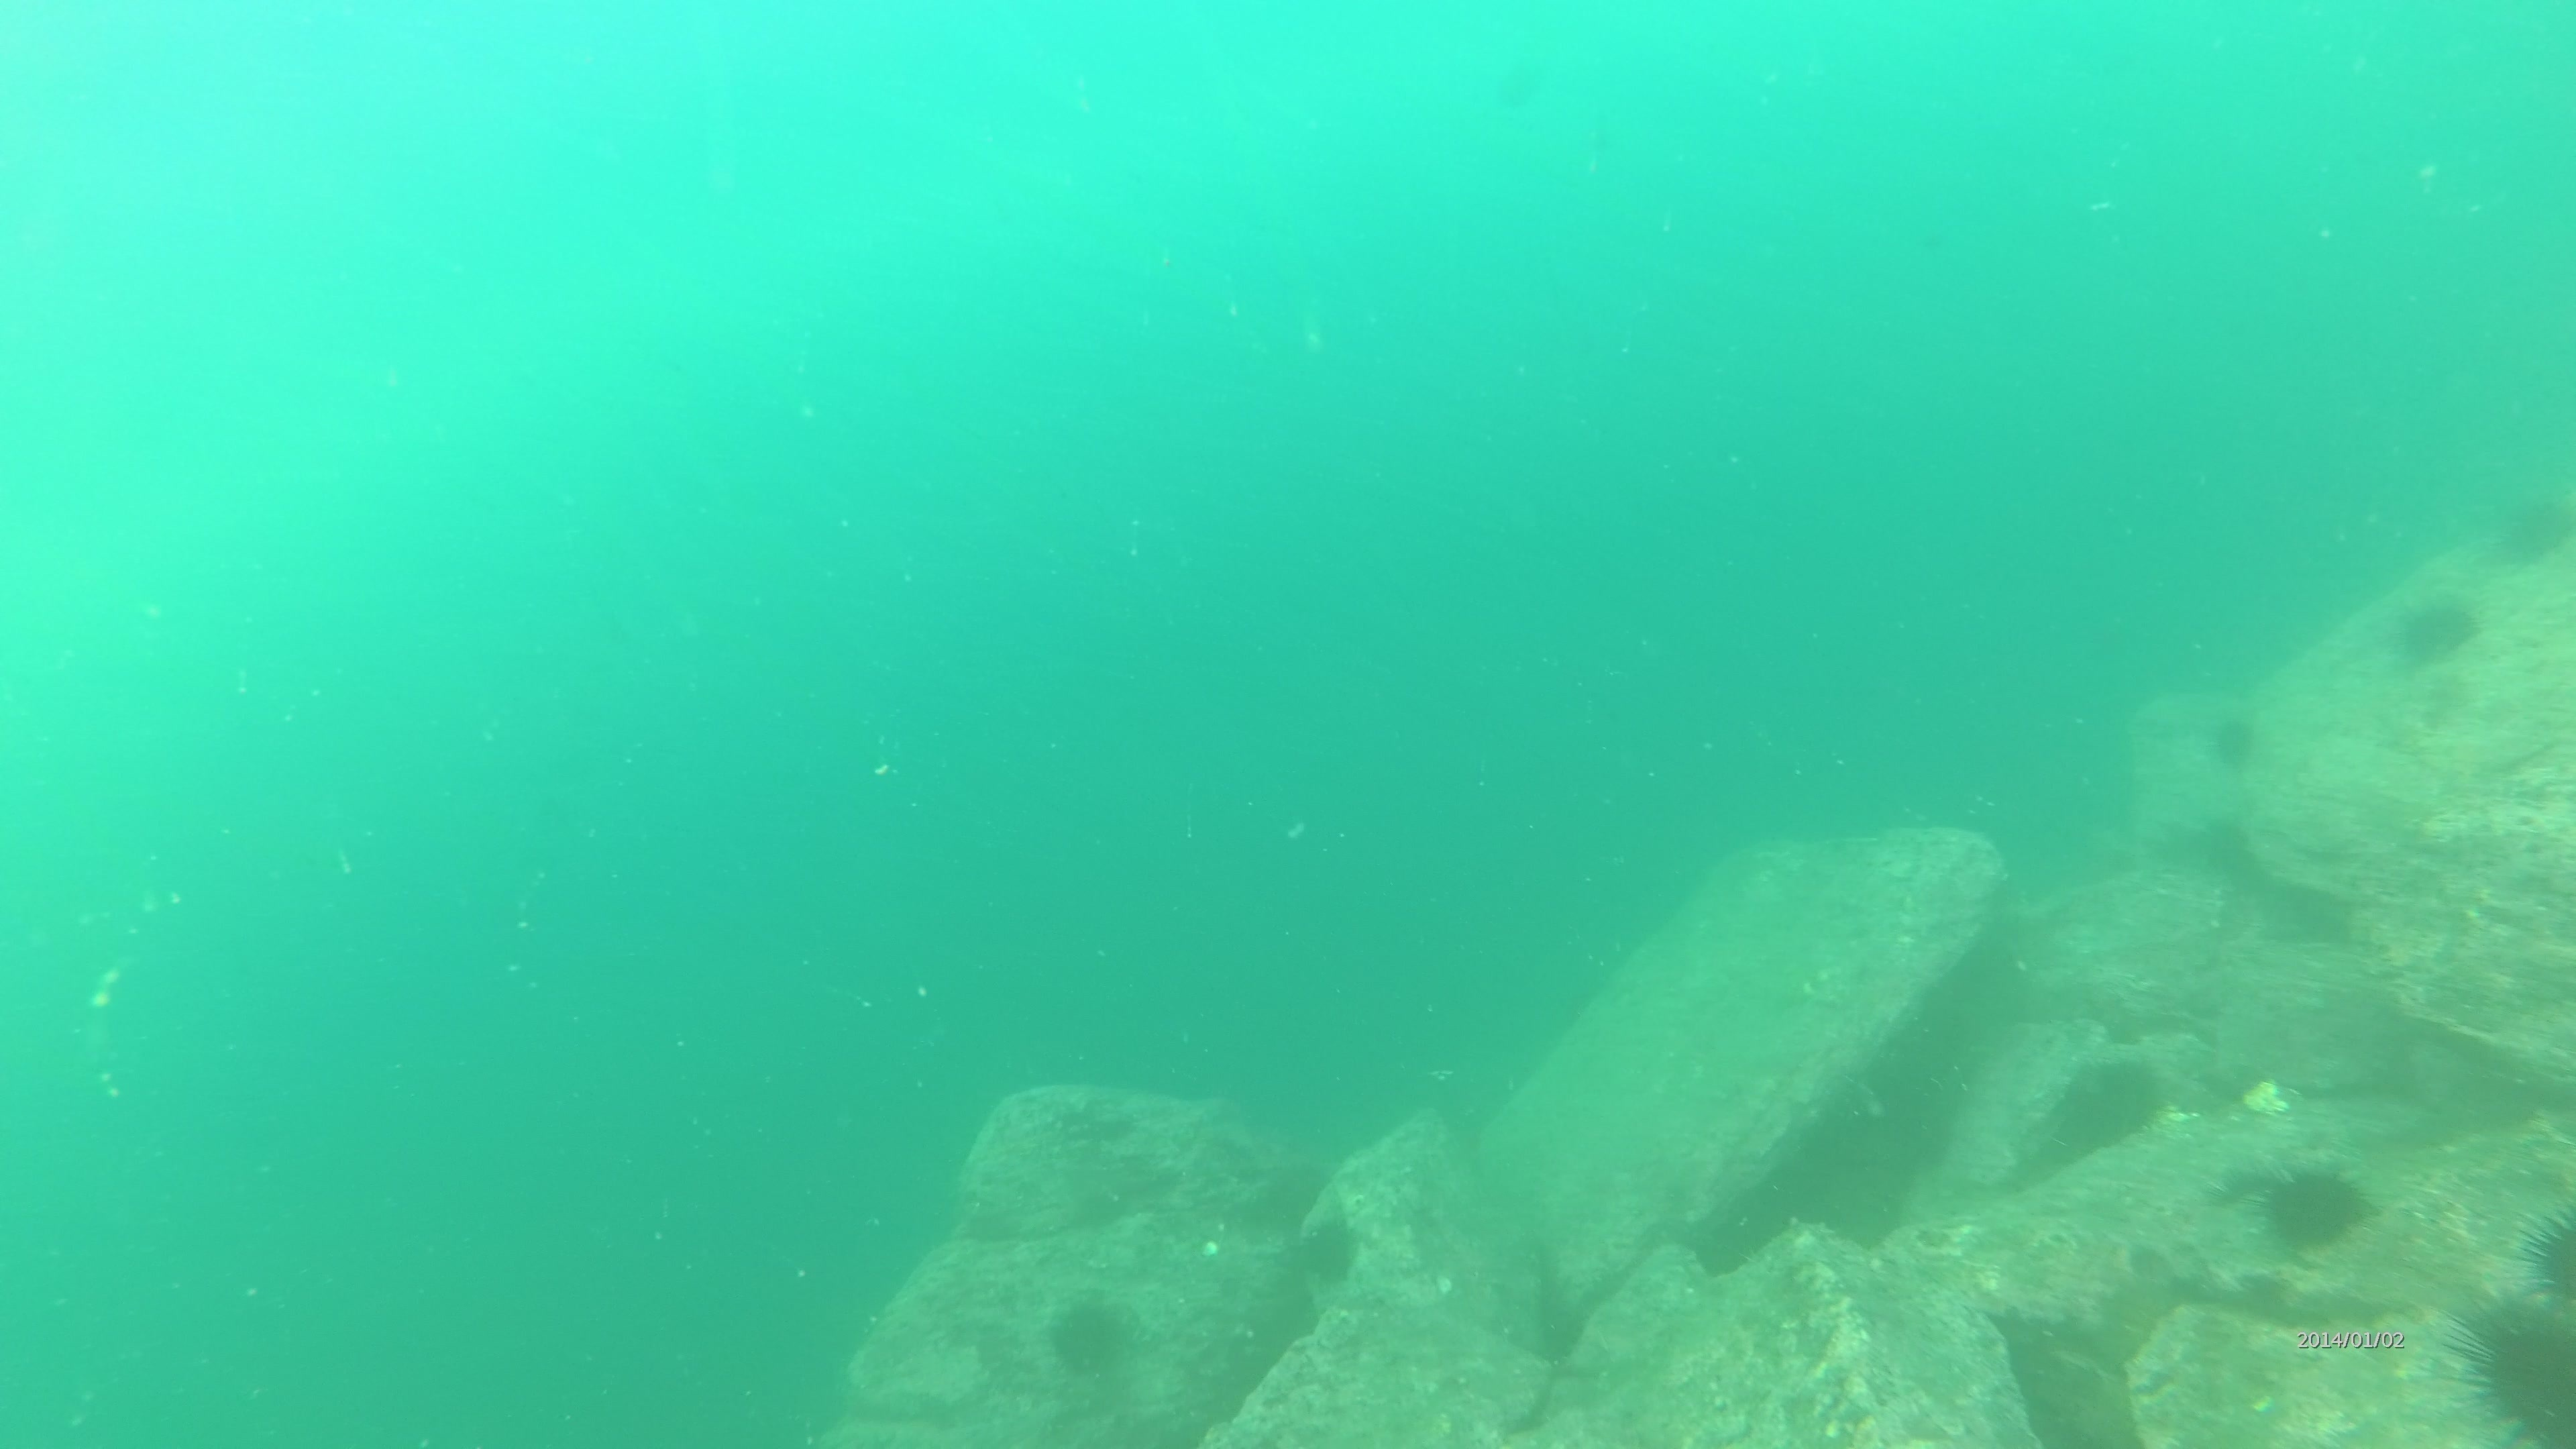echinus: (2449, 1288, 2572, 1444), (2047, 1049, 2171, 1159), (2254, 1155, 2376, 1258), (1040, 1288, 1139, 1384), (2387, 589, 2484, 672), (2486, 485, 2572, 573), (1288, 1207, 1366, 1292), (2521, 1201, 2576, 1313), (2203, 706, 2265, 775)
